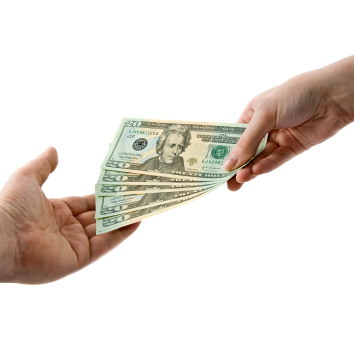billete: (93, 115, 270, 239)
